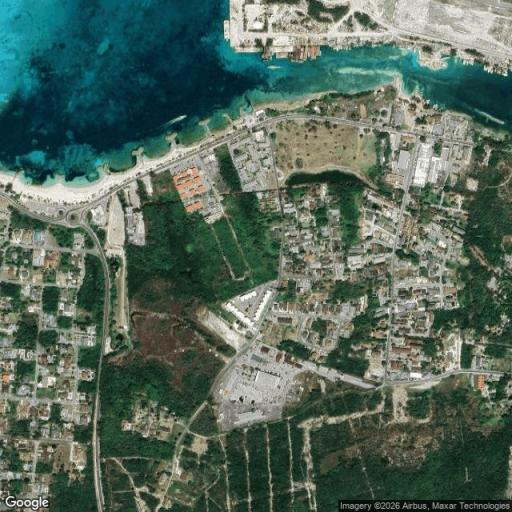ship: (149, 114, 188, 133), (153, 115, 186, 133), (289, 45, 320, 61), (475, 109, 504, 125), (160, 115, 186, 129), (261, 45, 272, 59), (169, 115, 186, 124), (224, 20, 230, 40), (487, 66, 491, 73), (466, 59, 469, 68), (491, 68, 494, 76), (463, 60, 466, 67)
